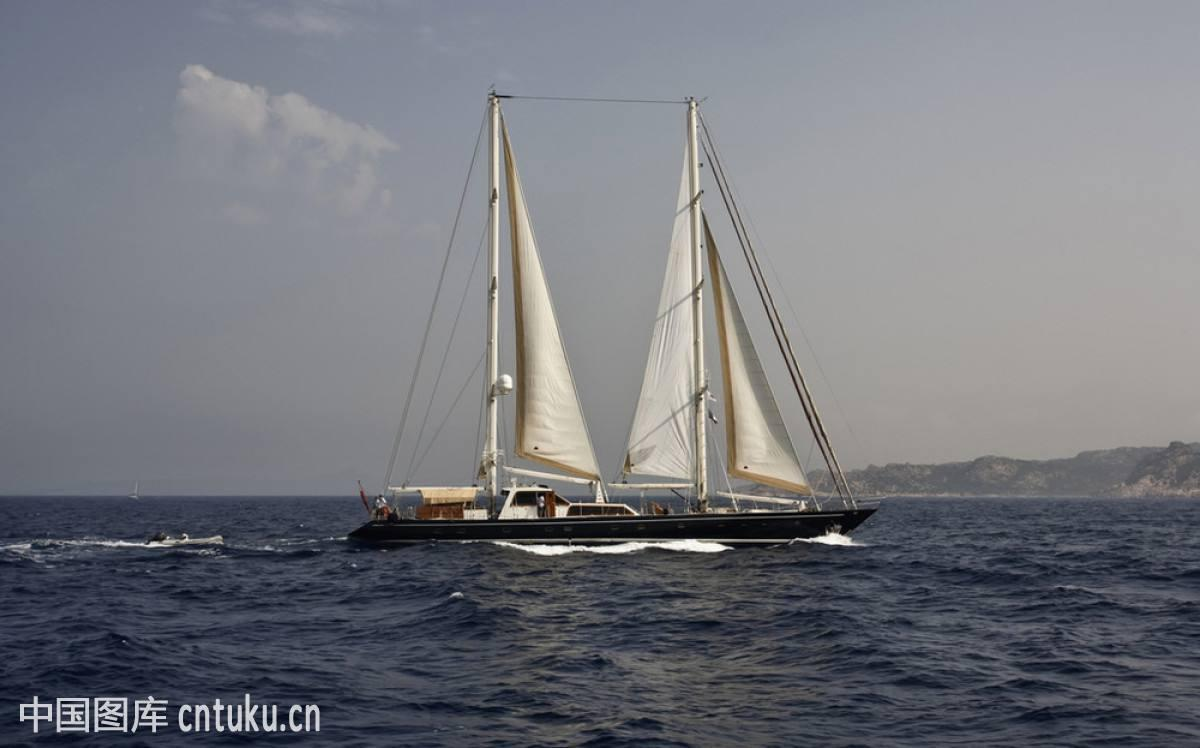fanchuan: (342, 65, 884, 552)
